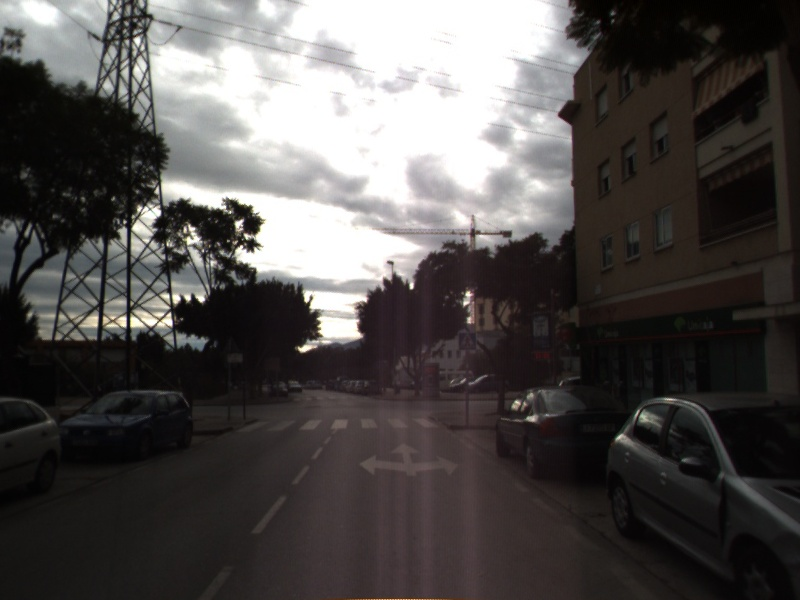STRAIGHT_LEFT_RIGHT: (357, 440, 461, 478)
